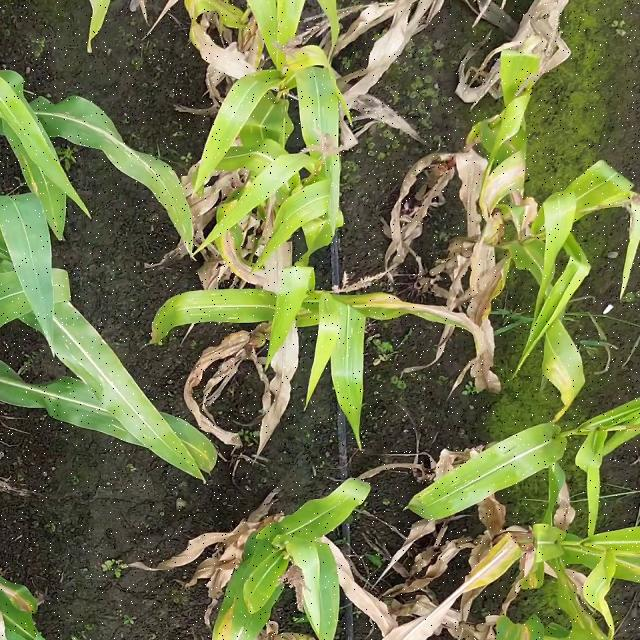gray-leaf-spot: (50, 100, 209, 266), (53, 333, 210, 482), (404, 456, 509, 544), (162, 276, 276, 351)
northern-leaf-blight: (174, 533, 298, 640), (324, 285, 476, 353), (459, 147, 546, 233), (518, 334, 598, 427), (493, 572, 588, 640)
